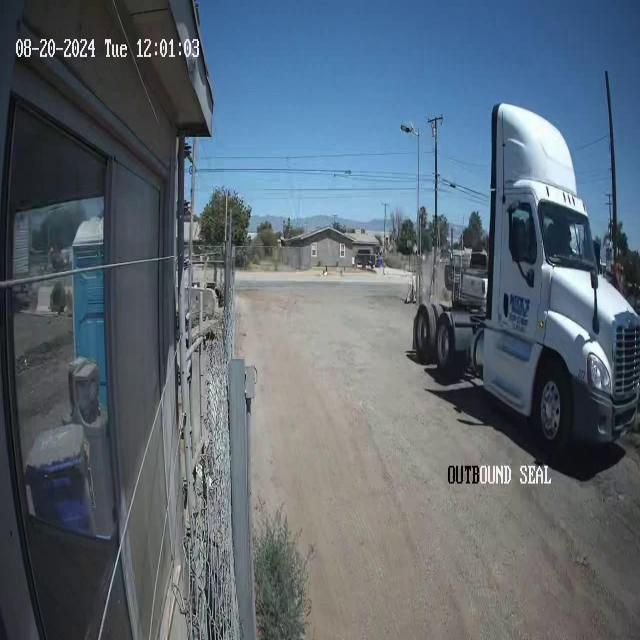BOBTAIL: (412, 100, 639, 457)
